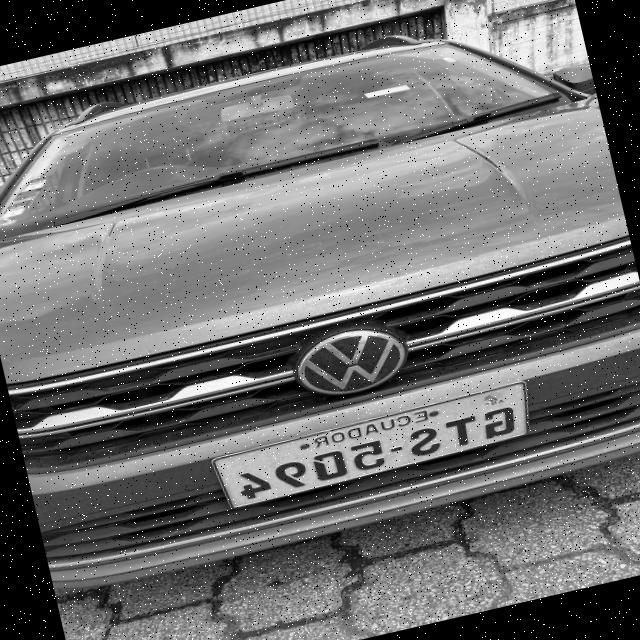Placa: (213, 382, 527, 508)
